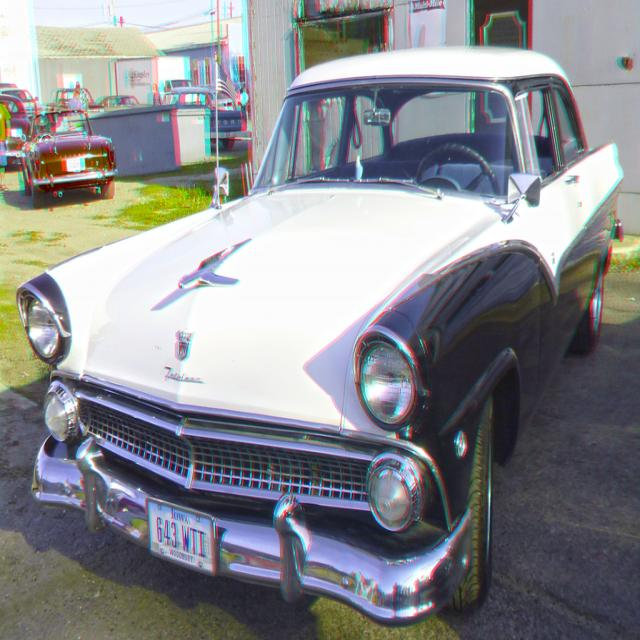other: (25, 45, 618, 636), (22, 90, 114, 194)
